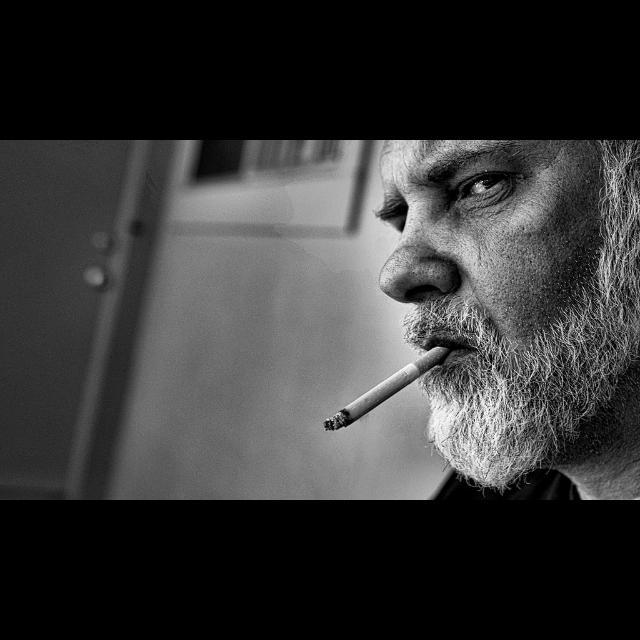rokok: (307, 327, 457, 433)
